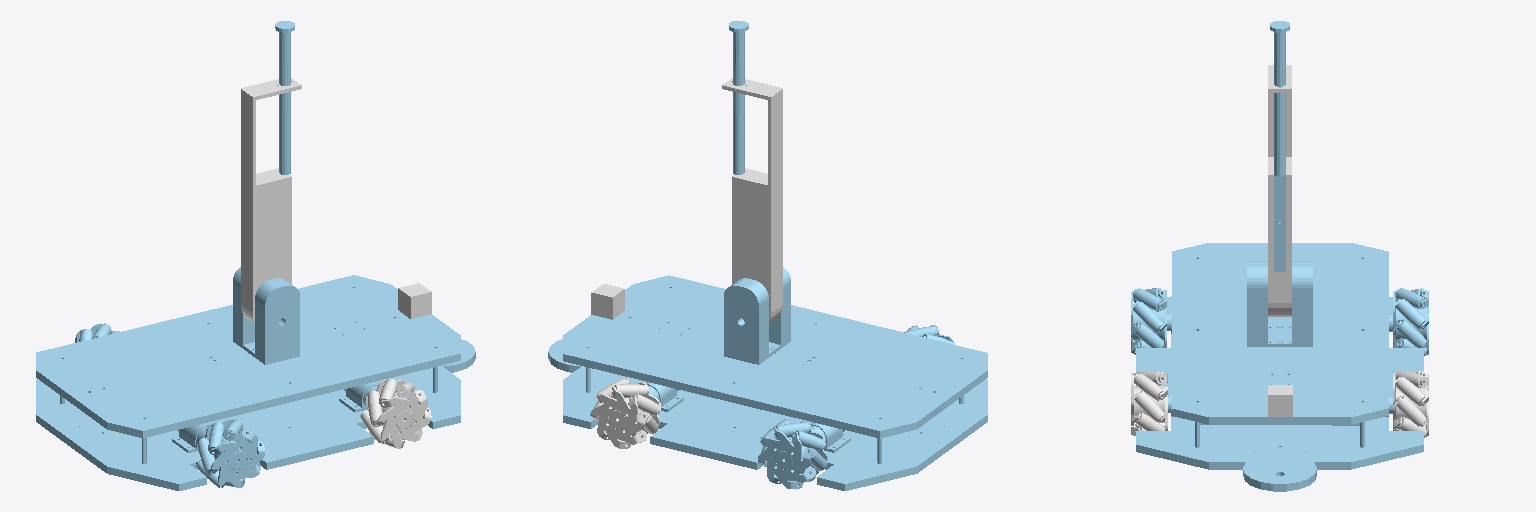
robot.urdf — myomnicar:
<?xml version="1.0" encoding="utf-8"?>
<!-- This URDF was automatically created by SolidWorks to URDF Exporter! Originally created by [author] ([email redacted]) 
     Commit Version: 1.6.0-4-g7f85cfe  Build Version: 1.6.7995.38578
     For more information, please see http://wiki.ros.org/sw_urdf_exporter -->
<robot name="myomnicar">
  <link name="base_link">
    <inertial>
      <origin xyz="-0.00273560199532746 0.000215777050725841 0.0274996215758712" rpy="0 0 0" />
      <mass value="3.41696225402213" />
      <inertia ixx="0.0201386605420202" ixy="-2.59546498906369E-08" ixz="-3.24604634721351E-19" iyy="0.0598794922115422" iyz="4.68559932695745E-18" izz="0.0795237108247995" />
    </inertial>
    <visual>
      <origin xyz="0 0 0" rpy="0 0 0" />
      <geometry>
        <mesh filename="package://myomnicar/meshes/base_link.STL" />
      </geometry>
      <material name="pastel_blue">
        <color rgba="0.7 0.9 1 1" />
      </material>
    </visual>
    <collision>
      <origin xyz="0 0 0" rpy="0 0 0" />
      <geometry>
        <mesh filename="package://myomnicar/meshes/base_link.STL" />
      </geometry>
    </collision>
  </link>
  <link
    name="LeFro_Link">
    <inertial>
      <origin
        xyz="-1.81709194103929E-05 -0.0214523571382038 -4.57468686205931E-05"
        rpy="0 0 0" />
      <mass
        value="0.132528370371145" />
      <inertia
        ixx="2.83256300698726E-05"
        ixy="-2.6042099748649E-08"
        ixz="-2.95923115088678E-08"
        iyy="3.4560591476919E-05"
        iyz="6.15936825764087E-08"
        izz="2.83831082567257E-05" />
    </inertial>
    <visual>
      <origin
        xyz="0 0 0"
        rpy="0 0 0" />
      <geometry>
        <mesh
          filename="package://myomnicar/meshes/LeFro_Link.STL" />
      </geometry>
      <material
        name="pastel_white">
        <color
          rgba="0.95 0.95 0.95 1" /> <!-- Màu trắng pastel -->
      </material>
    </visual>
    <collision>
      <origin
        xyz="0 0 0"
        rpy="0 0 0" />
      <geometry>
        <mesh
          filename="package://myomnicar/meshes/LeFro_Link.STL" />
      </geometry>
    </collision>
  </link>
  <joint
    name="LeFro"
    type="continuous">
    <origin
      xyz="0.110668877027778 0.18115 0.0151011526523603"
      rpy="0 0 0" />
    <parent
      link="base_link" />
    <child
      link="LeFro_Link" />
    <axis
      xyz="0 -1 0" />
  </joint>
  <link
    name="LeBa_Link">
    <inertial>
      <origin xyz="-2.68492397923203E-05 -0.0214523571382685 -4.1256231420558E-05" rpy="0 0 0" />
      <mass value="0.132528370370294" />
      <inertia
        ixx="2.83164123919334E-05"
        ixy="-1.33624421854789E-08"
        ixz="-1.61531394694566E-08"
        iyy="3.45605914767988E-05"
        iyz="6.55241775498633E-08"
        izz="2.83923259343786E-05" />
    </inertial>
    <visual>
      <origin
        xyz="0 0 0"
        rpy="0 0 0" />
      <geometry>
        <mesh
          filename="package://myomnicar/meshes/LeBa_Link.STL" />
      </geometry>
      <material
        name="pastel_blue">
        <color
          rgba="0.7 0.9 1 1" /> <!-- Màu xanh pastel -->
      </material>
    </visual>
    <collision>
      <origin
        xyz="0 0 0"
        rpy="0 0 0" />
      <geometry>
        <mesh
          filename="package://myomnicar/meshes/LeBa_Link.STL" />
      </geometry>
    </collision>
  </link>
  <joint name="LeBa" type="continuous">
    <origin xyz="-0.125330885687265 0.18115 0.0151012262096693" rpy="0 0 0" />
    <parent link="base_link" />
    <child link="LeBa_Link" />
    <axis xyz="0 -1 0" />
  </joint>
  <link
    name="RiFro_Link">
    <inertial>
      <origin
        xyz="3.92548868873022E-05 0.0214523571383656 -2.96986897965869E-05"
        rpy="0 0 0" />
      <mass
        value="0.132528370369018" />
      <inertia
        ixx="2.83148407571523E-05"
        ixy="9.66293486936121E-09"
        ixz="-1.17959965738313E-08"
        iyy="3.4560591476685E-05"
        iyz="-6.61709937415014E-08"
        izz="2.83938975688269E-05" />
    </inertial>
    <visual>
      <origin
        xyz="0 0 0"
        rpy="0 0 0" />
      <geometry>
        <mesh
          filename="package://myomnicar/meshes/RiFro_Link.STL" />
      </geometry>
      <material
        name="pastel_white">
        <color
          rgba="0.95 0.95 0.95 1" /> <!-- Màu trắng pastel -->
      </material>
    </visual>
    <collision>
      <origin
        xyz="0 0 0"
        rpy="0 0 0" />
      <geometry>
        <mesh
          filename="package://myomnicar/meshes/RiFro_Link.STL" />
      </geometry>
    </collision>
  </link>
  <joint
    name="RiFro"
    type="continuous">
    <origin
      xyz="0.108669183570457 -0.18035 0.0151012383185798"
      rpy="0 0 0" />
    <parent
      link="base_link" />
    <child
      link="RiFro_Link" />
    <axis
      xyz="0 1 0" />
  </joint>
  <link
    name="RiBa_Link">
    <inertial>
      <origin
        xyz="4.59371360957972E-05 0.0214523571381263 -1.7684394919293E-05"
        rpy="0 0 0" />
      <mass
        value="0.1325283703723" />
      <inertia
        ixx="2.83271570527136E-05"
        ixy="2.75857869753165E-08"
        ixz="-3.10022805566532E-08"
        iyy="3.45605914771984E-05"
        iyz="-6.0917953138025E-08"
        izz="2.83815812743568E-05" />
    </inertial>
    <visual>
      <origin
        xyz="0 0 0"
        rpy="0 0 0" />
      <geometry>
        <mesh
          filename="package://myomnicar/meshes/RiBa_Link.STL" />
      </geometry>
      <material
        name="pastel_blue">
        <color
          rgba="0.7 0.9 1 1" /> <!-- Màu xanh pastel -->
      </material>
    </visual>
    <collision>
      <origin
        xyz="0 0 0"
        rpy="0 0 0" />
      <geometry>
        <mesh
          filename="package://myomnicar/meshes/RiBa_Link.STL" />
      </geometry>
    </collision>
  </link>
  <joint name="RiBa" type="continuous">
    <origin xyz="-0.127331151836851 -0.18115 0.0151011400172413" rpy="0 0 0" />
    <parent link="base_link" />
    <child link="RiBa_Link" />
    <axis xyz="0 1 0" />
  </joint>
  <link
    name="link1_rot_Link">
    <inertial>
      <origin
        xyz="-0.00156583601300483 -0.0966182406039711 1.11022302462516E-16"
        rpy="0 0 0" />
      <mass
        value="0.346018379151474" />
      <inertia
        ixx="0.00106994053875397"
        ixy="6.60132552132075E-06"
        ixz="6.5982858102915E-22"
        iyy="0.000115495298943018"
        iyz="-3.67584944163676E-19"
        izz="0.00113274323114465" />
    </inertial>
    <visual>
      <origin
        xyz="0 0 0"
        rpy="0 0 0" />
      <geometry>
        <mesh
          filename="package://myomnicar/meshes/link1_rot_Link.STL" />
      </geometry>
      <material
        name="pastel_white">
        <color
          rgba="0.95 0.95 0.95 1" /> <!-- Màu trắng pastel -->
      </material>
    </visual>
    <collision>
      <origin
        xyz="0 0 0"
        rpy="0 0 0" />
      <geometry>
        <mesh
          filename="package://myomnicar/meshes/link1_rot_Link.STL" />
      </geometry>
    </collision>
  </link>
  <joint name="link1_rot" type="revolute">
    <origin xyz="0.016669 0 0.1125" rpy="-1.5708 0 0" />
    <parent link="base_link" />
    <child link="link1_rot_Link" />
    <axis xyz="0 0 -1" />
    <limit lower="-1.57" upper="1.57" effort="100.0" velocity="1.0" />
    <gazebo>
      <plugin name="link1_rot_effort" filename="libgazebo_ros_control.so">
        <hardwareInterface>PositionJointInterface</hardwareInterface>
      </plugin>
    </gazebo>
  </joint>
  <link
    name="link2_pris_Link">
    <inertial>
      <origin
        xyz="0 1.11022302462516E-16 -0.121034103089346"
        rpy="0 0 0" />
      <mass
        value="0.0433707949799023" />
      <inertia
        ixx="0.000299177750845828"
        ixy="2.77374969410811E-24"
        ixz="1.17118665016213E-21"
        iyy="0.000299064261379515"
        iyz="1.36894779473764E-20"
        izz="1.28641256701598E-06" />
    </inertial>
    <visual>
      <origin
        xyz="0 0 0"
        rpy="0 0 0" />
      <geometry>
        <mesh
          filename="package://myomnicar/meshes/link2_pris_Link.STL" />
      </geometry>
      <material
        name="pastel_blue">
        <color
          rgba="0.7 0.9 1 1" /> <!-- Màu xanh pastel -->
      </material>
    </visual>
    <collision>
      <origin
        xyz="0 0 0"
        rpy="0 0 0" />
      <geometry>
        <mesh
          filename="package://myomnicar/meshes/link2_pris_Link.STL" />
      </geometry>
    </collision>
  </link>
  <joint
    name="link2_pris"
    type="prismatic">
    <origin
      xyz="0.026425 -0.38 0"
      rpy="-1.5708 0 -3.1416" />
    <parent
      link="link1_rot_Link" />
    <child
      link="link2_pris_Link" />
    <axis
      xyz="0 0 -1" />
    <limit
      lower="-0.5"
      upper="0.5"
      effort="100.0"
      velocity="1.0" />
    <gazebo>
      <plugin name="link2_pris_effort" filename="libgazebo_ros_control.so">
        <hardwareInterface>PositionJointInterface</hardwareInterface>
      </plugin>
    </gazebo>
  </joint>
  <link name="camera_link">
    <inertial>
      <origin xyz="0 0 0" rpy="0 0 0" />
      <mass value="0.1" />
      <inertia ixx="1e-4" ixy="0" ixz="0" iyy="1e-4" iyz="0" izz="1e-4" />
    </inertial>
    <visual>
      <origin xyz="0 0 0" rpy="0 0 0" />
      <geometry>
        <box size="0.03 0.03 0.03" />
      </geometry>
      <material name="pastel_white">
        <color rgba="0.95 0.95 0.95 1" /> <!-- Màu trắng pastel -->
      </material>
    </visual>
    <collision>
      <origin xyz="0 0 0" rpy="0 0 0" />
      <geometry>
        <box size="0.03 0.03 0.03" />
      </geometry>
    </collision>
  </link>

  <joint name="camera_joint" type="fixed">
    <origin xyz="0.22755 0.001 0.075" rpy="0 0 0"/>
    <parent link="base_link" />
    <child link="camera_link" />
  </joint>

  <gazebo reference="camera_link">
    <sensor type="camera" name="camera_sensor">
      <pose>0 0 0 0 0 0</pose>
      <update_rate>30</update_rate>
      <camera>
        <horizontal_fov>1.396</horizontal_fov>
        <image>
          <width>640</width>
          <height>480</height>
          <format>R8G8B8</format>
        </image>
        <clip>
          <near>0.1</near>
          <far>100</far>
        </clip>
      </camera>
      <plugin name="camera_controller" filename="libgazebo_ros_camera.so">
        <alwaysOn>true</alwaysOn>
        <updateRate>30.0</updateRate>
        <cameraName>front_camera</cameraName>
        <imageTopicName>image_raw</imageTopicName>
        <cameraInfoTopicName>camera_info</cameraInfoTopicName>
        <frameName>camera_link</frameName>
      </plugin>
    </sensor>
  </gazebo>
<link name="gps_link">
  <visual>
    <geometry>
      <sphere radius="0.02"/>
    </geometry>
    <material name="pastel_blue">
      <color rgba="0.7 0.9 1 1"/> <!-- Màu xanh pastel -->
    </material>
  </visual>
</link>

<joint name="gps_joint" type="fixed">
  <origin xyz="0 0 0.04" rpy="0 0 0"/>  
  <parent link="base_link"/> <!-- Gắn GPS vào base_link -->
  <child link="gps_link"/>
</joint>

  <joint name="rplidar_joint" type="fixed">
		<axis xyz="0 1 0" />
		<origin xyz="0.25 0.001 0.005" rpy="0 0 0"/>
		<parent link="base_link"/>
		<child link="laser"/>
	</joint>

	<!-- rplidar Laser -->
	<link name="laser">
		<collision>
			<origin xyz="0 0 0" rpy="1.5707 0 3.1412"/>
			<geometry>
				<mesh filename="package://omni_gazebo/meshes/rplidar.dae" scale="0.001 0.001 0.001" />
			</geometry>
		</collision>

		<visual>
			<origin xyz="0 0 0" rpy="1.5707 0 4.71"/>
			<geometry>
				<mesh filename="package://omni_gazebo/meshes/rplidar.dae" scale="0.001 0.001 0.001" />
			</geometry>
      <material name="pastel_white">
        <color rgba="0.95 0.95 0.95 1" /> <!-- Màu trắng pastel -->
      </material>
		</visual>

		<inertial>
			<mass value="0.00001" />
			<origin xyz="0 0 0.058" rpy="1.5707 0 4.71"/>
			<inertia ixx="0" ixy="0" ixz="0" iyy="0" iyz="0" izz="0" />
		</inertial>
	</link>

  <!-- RpLidar using CPU -->
   <gazebo reference="laser">
    <material>Gazebo/Black</material>
    <sensor type="ray" name="head_rplidar_sensor">
      <visualize>true</visualize>
      <update_rate>30.0</update_rate>
      <ray>
        <scan>
          <horizontal>
            <samples>60</samples>
            <resolution>1</resolution>
            <min_angle>-1.570796</min_angle>
            <max_angle>1.570796</max_angle>
          </horizontal>
        </scan>
        <range>
          <min>0.1</min>
          <max>12.0</max>
          <resolution>0.02</resolution>
        </range>
        <noise>
          <type>gaussian</type>
          <mean>0.0</mean>
          <stddev>0.01</stddev>
        </noise>
      </ray>
      <plugin name="gazebo_ros_head_rplidar_controller" filename="libgazebo_ros_laser.so">
        <topicName>scan</topicName>
        <frameName>laser</frameName>
      </plugin>
    </sensor>
  </gazebo> 
  <gazebo>
  <!-- Bắt đầu khai báo cấu hình cho Gazebo -->
  <plugin name="gps_plugin" filename="libhector_gazebo_ros_gps.so">
    <!-- Khai báo plugin GPS sử dụng thư viện "libhector_gazebo_ros_gps.so" -->
    
    <alwaysOn>true</alwaysOn>
    <!-- Luôn kích hoạt plugin GPS, ngay cả khi không có client nào subscribe -->

    <updateRate>10.0</updateRate>
    <!-- Tần suất cập nhật dữ liệu GPS là 10 Hz (10 lần/giây) -->

    <bodyName>base_link</bodyName>
    <!-- Xác định liên kết (link) mà cảm biến GPS gắn vào (ở đây là "base_link") -->
    
    <topicName>/gps/fix</topicName>
    <!-- Tên topic ROS xuất ra dữ liệu vị trí GPS (kiểu sensor_msgs/NavSatFix) -->

    <velocityTopicName>/gps/fix_velocity</velocityTopicName>
    <!-- Tên topic ROS xuất ra dữ liệu vận tốc (kiểu geometry_msgs/Vector3Stamped) -->
    
    <referenceLatitude>21.028511</referenceLatitude>
    <!-- Giá trị vĩ độ gốc (ở đây là 21.028511 - tọa độ ở Hà Nội, Việt Nam) -->
    
    <referenceLongitude>105.804817</referenceLongitude>
    <!-- Giá trị kinh độ gốc (ở đây là 105.804817 - tọa độ ở Hà Nội, Việt Nam) -->

    <referenceAltitude>10.0</referenceAltitude>
    <!-- Độ cao gốc so với mực nước biển (10 mét) -->

    <drift>0.001 0.001 0.001</drift>
    <!-- Mô phỏng độ lệch (trôi) của tín hiệu GPS theo các trục X, Y, Z (đơn vị: mét) -->

    <gaussianNoise>0.05 0.05 0.05</gaussianNoise>
    <!-- Mô phỏng nhiễu Gauss (ngẫu nhiên) trên các trục X, Y, Z (đơn vị: mét) -->
  </plugin>
  <!-- Kết thúc khai báo plugin GPS -->
</gazebo>
<!-- Kết thúc phần cấu hình cho Gazebo -->
<gazebo>
  <plugin name="diff_drive_controller" filename="libgazebo_ros_diff_drive.so">
    <robotNamespace>/</robotNamespace>
    <updateRate>50.0</updateRate> <!-- Tần suất cập nhật -->
    <leftJoint>LeFro</leftJoint>
    <leftJoint>LeBa</leftJoint> <!-- Joint bánh xe sau bên trái -->
    <rightJoint>RiFro</rightJoint>
    <rightJoint>RiBa</rightJoint> <!-- Joint bánh xe sau bên phải -->
    <wheelSeparation>0.3623</wheelSeparation>
    <wheelDiameter>0.1</wheelDiameter>
    <cmdVelTopic>/cmd_vel</cmdVelTopic> <!-- Thêm topic điều khiển -->
    <odometryTopic>/odom</odometryTopic>
    <odometryFrame>odom</odometryFrame>
    <robotBaseFrame>base_link</robotBaseFrame>
    <publishTf>true</publishTf> <!-- Xuất TF từ plugin -->
    <publishWheelTF>false</publishWheelTF> <!-- Không xuất TF của bánh xe -->
    <publishWheelJointState>true</publishWheelJointState> <!-- Xuất trạng thái joint -->
    <wheelAcceleration>5.0</wheelAcceleration> <!-- Tăng tốc tối đa của bánh xe -->
    <wheelTorque>10.0</wheelTorque> <!-- Mô-men xoắn bánh xe -->
    <odometrySource>encoder</odometrySource> <!-- 1 = dùng encoder, 0 = dùng Ground Truth -->
  </plugin>
</gazebo>
<gazebo>
  <plugin name="gazebo_ros_control" filename="libgazebo_ros_control.so" />
</gazebo>
<transmission name="link1_rot_trans">
  <type>transmission_interface/SimpleTransmission</type>
  <joint name="link1_rot">
    <hardwareInterface>hardware_interface/PositionJointInterface</hardwareInterface>
  </joint>
  <actuator name="link1_rot_motor">
    <mechanicalReduction>1.0</mechanicalReduction>
  </actuator>
</transmission>

<transmission name="link2_pris_trans">
  <type>transmission_interface/SimpleTransmission</type>
  <joint name="link2_pris">
    <hardwareInterface>hardware_interface/PositionJointInterface</hardwareInterface>
  </joint>
  <actuator name="link2_pris_motor">
    <mechanicalReduction>1.0</mechanicalReduction>
  </actuator>
</transmission>
</robot>

--- Render facts (derived) ---
3 views of the same robot in one strip: view 1: azimuth 30°, elevation 25°; view 2: azimuth 150°, elevation 25°; view 3: azimuth 270°, elevation 25° (orthographic).
Robot: myomnicar — 10 links, 9 joints (1 revolute, 4 continuous, 1 prismatic, 3 fixed); root link base_link; default pose: every joint at zero.
Visible links, largest first — view 1: base_link, link1_rot_Link, RiBa_Link, RiFro_Link, link2_pris_Link, camera_link; view 2: base_link, link1_rot_Link, LeFro_Link, LeBa_Link, link2_pris_Link, camera_link; view 3: base_link, link1_rot_Link, link2_pris_Link, RiFro_Link, LeFro_Link, RiBa_Link, LeBa_Link, camera_link.
Boxes of the visible links, bbox=[...] form: base_link: bbox=[36, 267, 475, 490]; link1_rot_Link: bbox=[241, 78, 301, 323]; RiBa_Link: bbox=[195, 419, 264, 487]; RiFro_Link: bbox=[360, 379, 431, 448]; link2_pris_Link: bbox=[275, 21, 294, 174]; camera_link: bbox=[398, 283, 431, 318]; base_link: bbox=[548, 267, 987, 490]; link1_rot_Link: bbox=[722, 78, 782, 323]; LeFro_Link: bbox=[590, 378, 660, 448]; LeBa_Link: bbox=[758, 419, 827, 489]; link2_pris_Link: bbox=[729, 20, 748, 174]; camera_link: bbox=[591, 284, 624, 319]; base_link: bbox=[1136, 243, 1423, 491]; link1_rot_Link: bbox=[1268, 65, 1291, 316]; link2_pris_Link: bbox=[1270, 21, 1289, 271]; RiFro_Link: bbox=[1131, 371, 1167, 435]; LeFro_Link: bbox=[1393, 370, 1428, 437]; RiBa_Link: bbox=[1131, 288, 1166, 354]; LeBa_Link: bbox=[1393, 288, 1428, 355]; camera_link: bbox=[1268, 385, 1292, 416].
Size in the robot's own frame: 0.5644 by 0.3623 by 0.5193 metres.
Meshes: 8 distinct files referenced, 7 mesh visuals loaded (7 binary STL); not drawn: 1 (reference not matched to a file when rendering).
